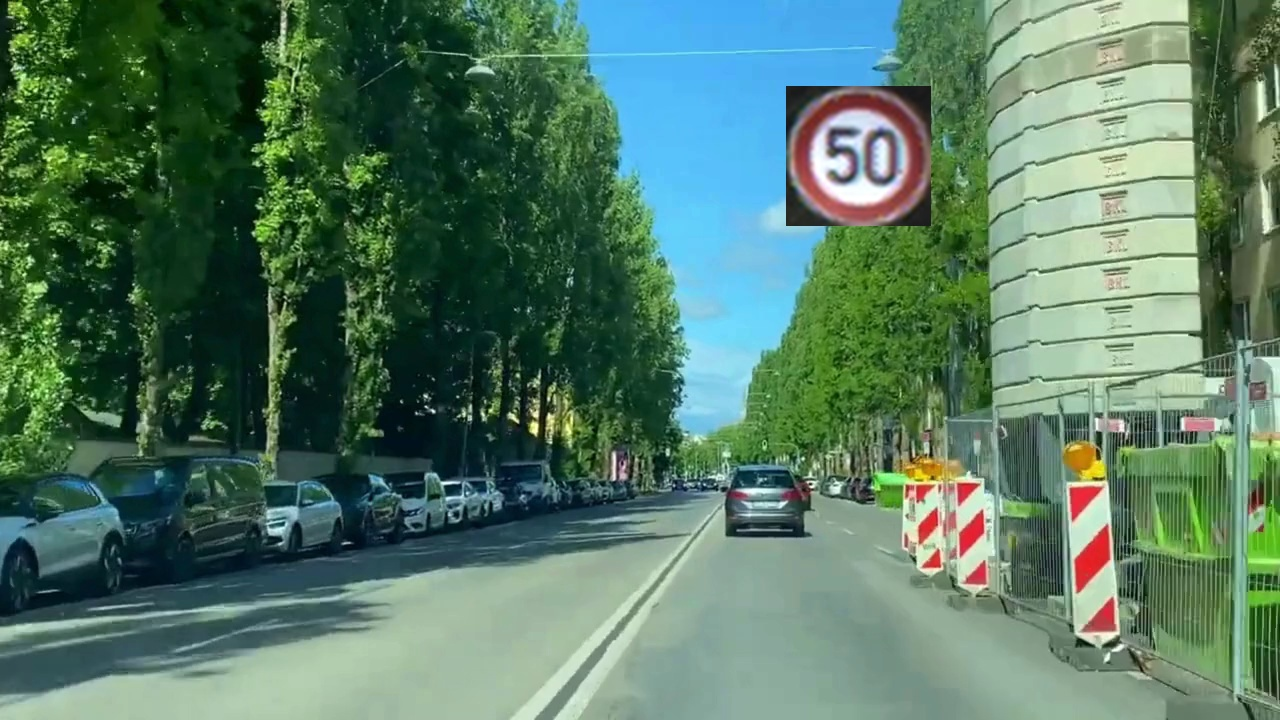Speed 50: (786, 86, 931, 226)
